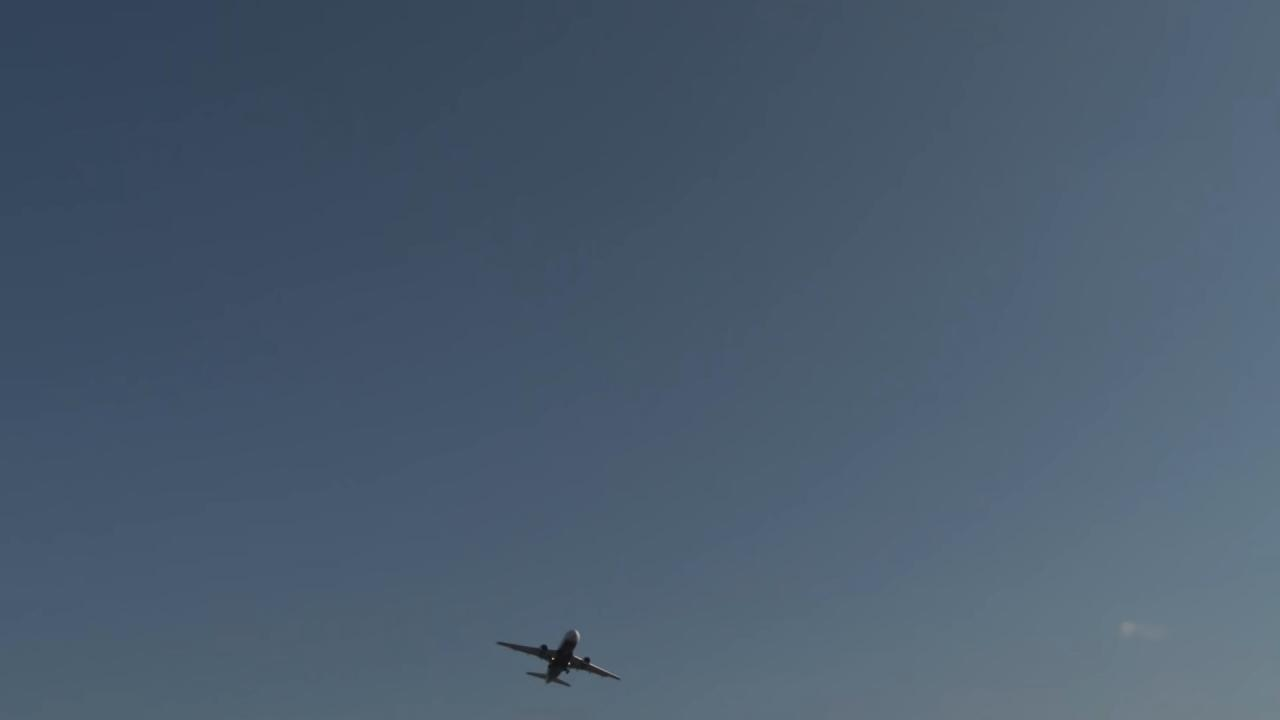Airplane: (481, 616, 630, 702)
